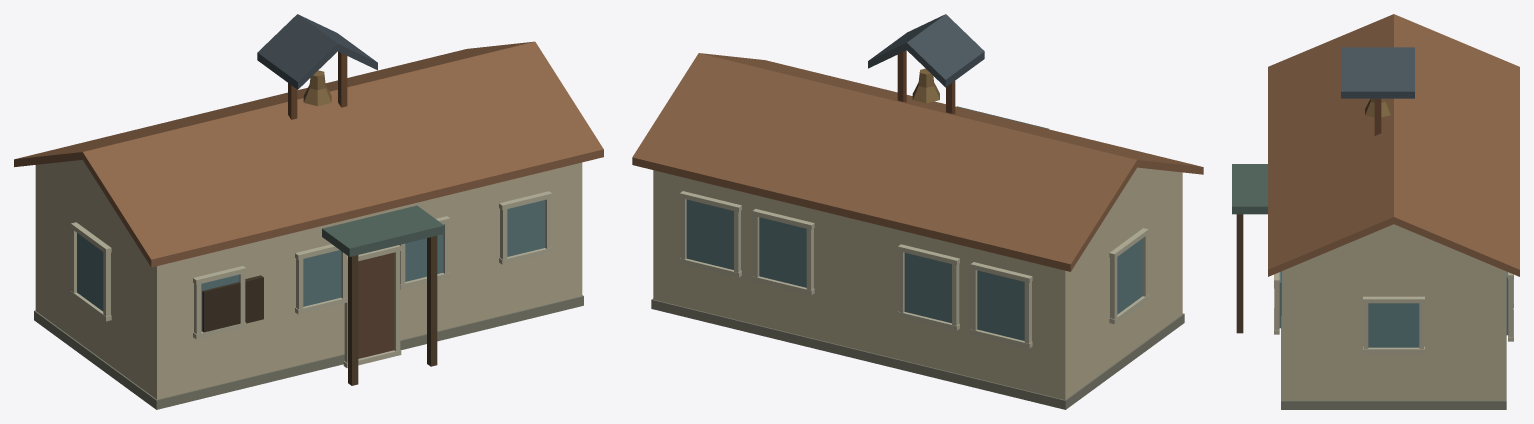
File: Building_Settlement_RuralSchool_001_LOD1.glb
3 views of the same model, side by side, from view 1: azimuth 30°, elevation 25°; view 2: azimuth 150°, elevation 25°; view 3: azimuth 270°, elevation 25° (orthographic). The views are drawn at different scales.
Parts seen in each view (by area): view 1: Building_Settlement_RuralSchool_001_LOD1; view 2: Building_Settlement_RuralSchool_001_LOD1; view 3: Building_Settlement_RuralSchool_001_LOD1.
Part boxes in pixels (x1,y1,x2,y2): Building_Settlement_RuralSchool_001_LOD1: [14, 14, 603, 409]; Building_Settlement_RuralSchool_001_LOD1: [632, 14, 1203, 409]; Building_Settlement_RuralSchool_001_LOD1: [1232, 14, 1519, 409].
Bounding box in the file's own units: 9.05 × 5.57 × 5.42.
